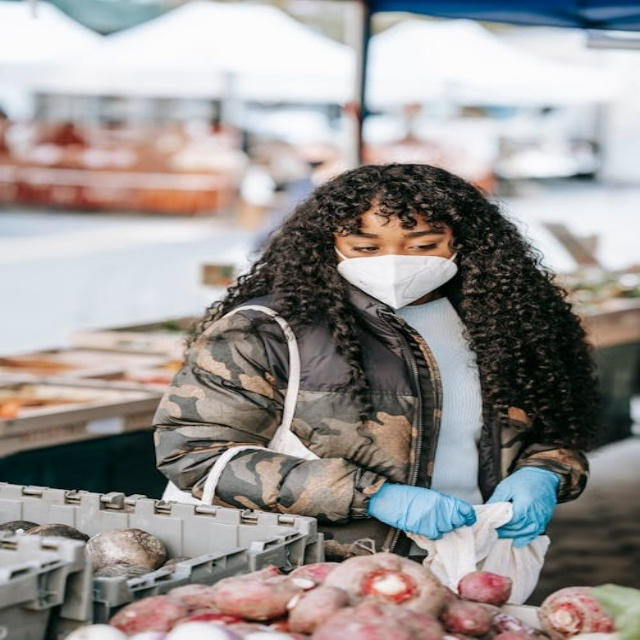Guantes: (366, 480, 474, 539), (483, 467, 561, 546)
Mascara: (334, 250, 460, 309)
Sin_gafas: (338, 228, 449, 256)
